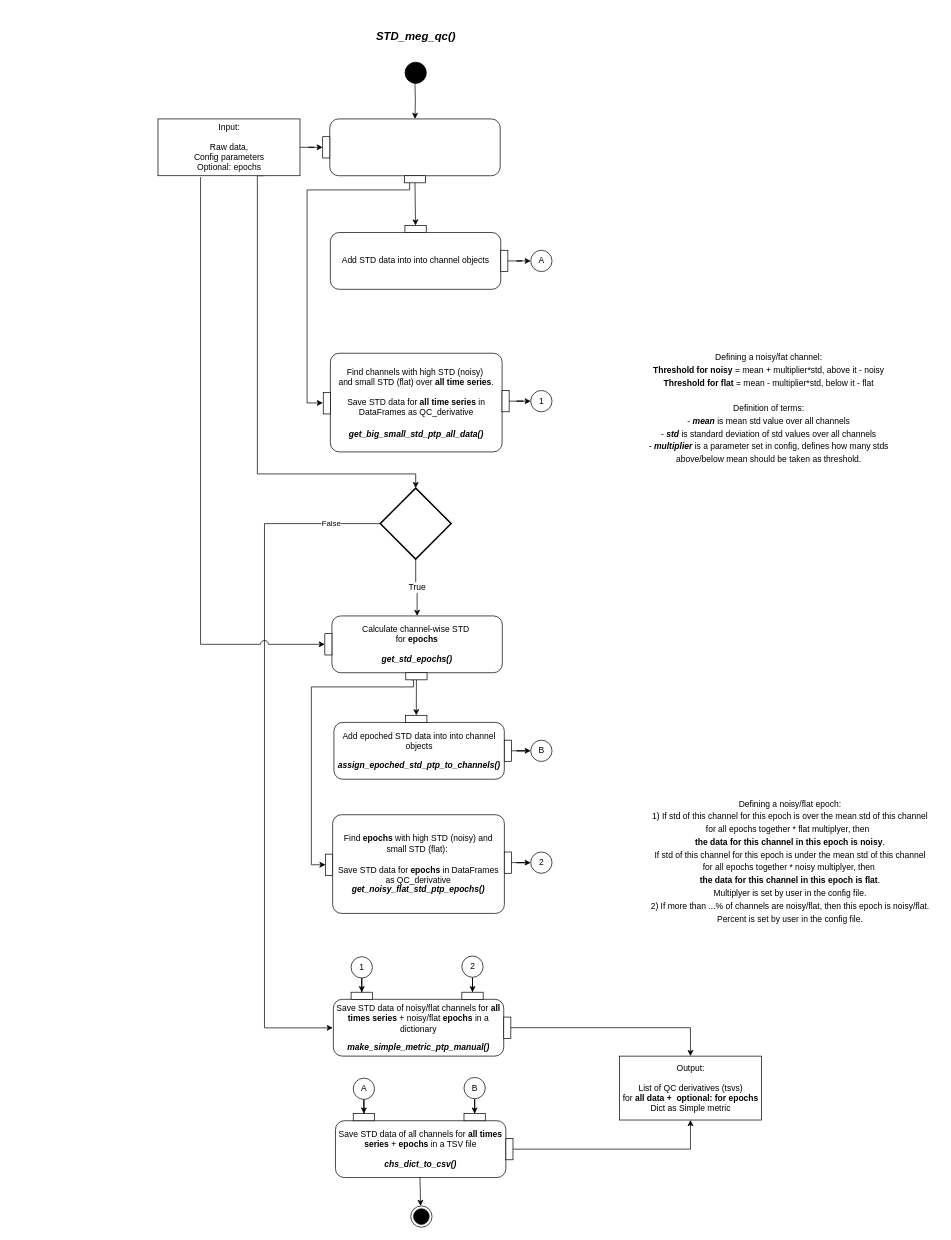
The diagram is 951 pixels wide and 1240 high, and some of its shapes have lost their labels. Each missing label, with the centre of its shape:
"Calculate STD of data for each channel over all time series get_std_all_data()" belongs at (x=414, y=147).
"Is data epoched?" belongs at (x=415, y=523).
